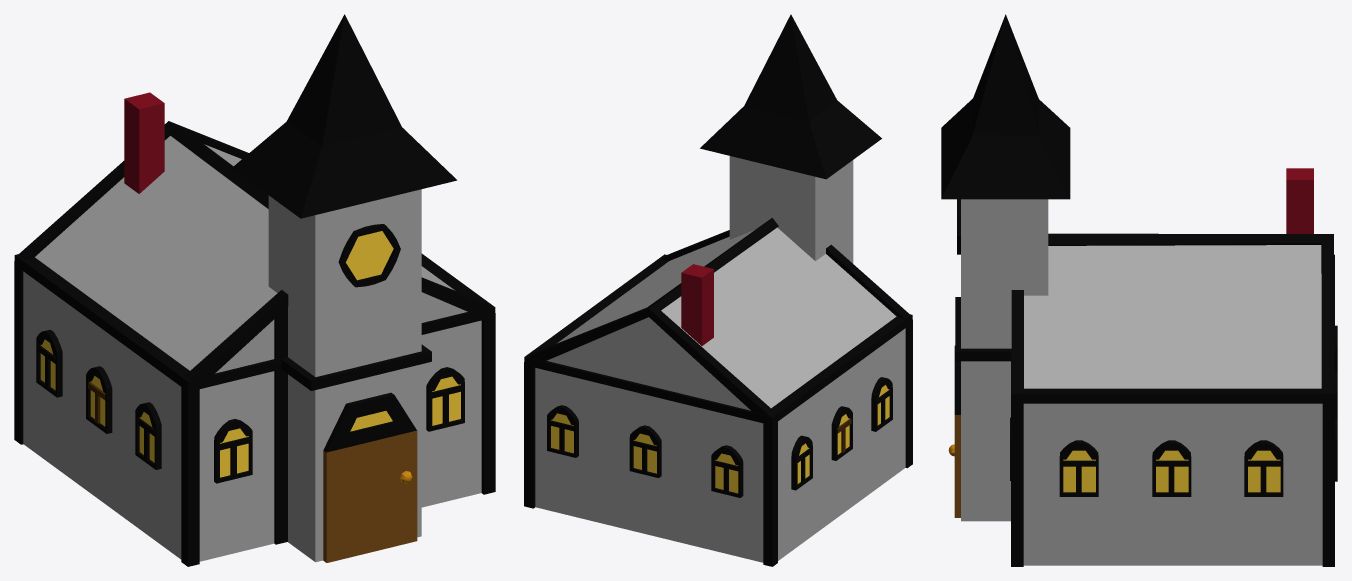
The model's file is Church.fbx.
The picture shows the model from 3 angles, left to right: view 1: azimuth 30°, elevation 25°; view 2: azimuth 150°, elevation 25°; view 3: azimuth 270°, elevation 25°; orthographic projection. The views are drawn at different scales.
Visible parts, largest first — view 1: pSphere2; view 2: pSphere2; view 3: pSphere2.
Part boxes in pixels (x1,y1,x2,y2): pSphere2: (14,14,495,566); pSphere2: (524,14,912,566); pSphere2: (941,14,1337,566).
Bounding box in the file's own units: 6.97 × 10.95 × 8.14.
1 material, 1 textured.
